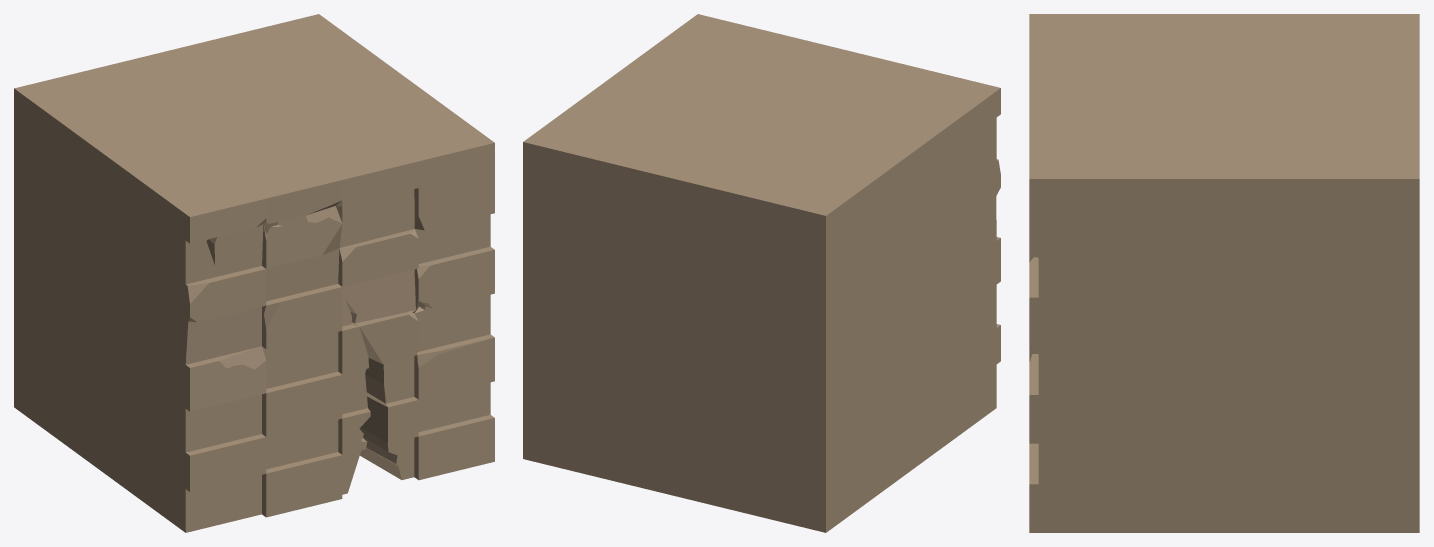
The model's file is outerWall_broken1_5.4..fbx.
3 views of the same model, side by side, from view 1: azimuth 30°, elevation 25°; view 2: azimuth 150°, elevation 25°; view 3: azimuth 270°, elevation 25° (orthographic). The views are drawn at different scales.
Parts seen in each view (by area): view 1: outerWall_broken1; view 2: outerWall_broken1; view 3: outerWall_broken1.
Part boxes in pixels (x1,y1,x2,y2): outerWall_broken1: (14, 14, 494, 532); outerWall_broken1: (523, 14, 1000, 532); outerWall_broken1: (1029, 14, 1419, 532).
Size of the model in its own units: 400 by 400 by 400.
